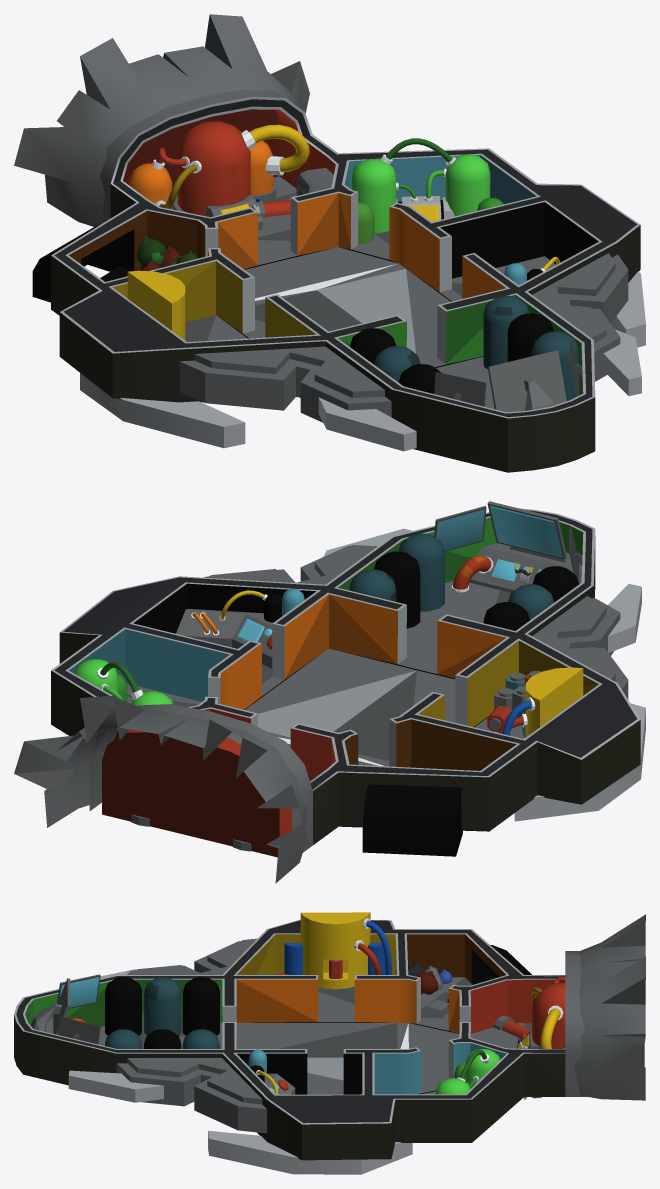
The model's file is Nave.glb.
The picture shows the model from 3 angles, top to bottom: view 1: azimuth 30°, elevation 25°; view 2: azimuth 150°, elevation 25°; view 3: azimuth 270°, elevation 25°; orthographic projection. The views are drawn at different scales.
Parts seen in each view (by area): view 1: Plane.054, Plane.030, Cube.052, Plane.031, Cube.044, Plane.048, Plane.049, BézierCurve.024, Cube.056, Plane.029, Cube.053, Cube.051 (+3 smaller); view 2: Plane.054, Plane.030, Cube.056, Plane.031, Cube.045, Cube.044, Plane.029, Plane.048, BézierCurve.013; view 3: Plane.054, Plane.030, Cube.044, Plane.029, Cube.052, Cube.042, Plane.031, Plane.049, BézierCurve.024, Cube.056, Cube.049, Plane.048 (+2 smaller).
Boxes of the visible parts, x1=… form: Plane.054: x1=14, y1=14, x2=645, y2=472; Plane.030: x1=350, y1=295, x2=578, y2=400; Cube.052: x1=172, y1=121, x2=255, y2=216; Plane.031: x1=487, y1=350, x2=566, y2=412; Cube.044: x1=127, y1=270, x2=185, y2=340; Plane.048: x1=445, y1=154, x2=490, y2=216; Plane.049: x1=351, y1=158, x2=396, y2=233; BézierCurve.024: x1=241, y1=124, x2=309, y2=175; Cube.056: x1=32, y1=225, x2=118, y2=302; Plane.029: x1=434, y1=339, x2=582, y2=406; Cube.053: x1=128, y1=163, x2=172, y2=209; Cube.051: x1=250, y1=140, x2=276, y2=202; Plane.054: x1=14, y1=508, x2=645, y2=883; Plane.030: x1=349, y1=533, x2=578, y2=630; Cube.056: x1=362, y1=784, x2=462, y2=856; Plane.031: x1=469, y1=501, x2=581, y2=592; Cube.045: x1=176, y1=609, x2=272, y2=668; Cube.044: x1=525, y1=667, x2=583, y2=737; Plane.029: x1=434, y1=506, x2=582, y2=584; Plane.048: x1=74, y1=659, x2=118, y2=693; BézierCurve.013: x1=451, y1=555, x2=493, y2=592; Plane.054: x1=14, y1=914, x2=645, y2=1174; Plane.030: x1=105, y1=977, x2=219, y2=1048; Cube.044: x1=300, y1=912, x2=370, y2=989; Plane.029: x1=57, y1=974, x2=100, y2=1044; Cube.052: x1=532, y1=982, x2=565, y2=1048; Cube.042: x1=284, y1=943, x2=385, y2=974; Plane.031: x1=30, y1=978, x2=70, y2=1034; Plane.049: x1=465, y1=1049, x2=500, y2=1088; BézierCurve.024: x1=540, y1=1005, x2=564, y2=1048; Cube.056: x1=482, y1=945, x2=531, y2=981; Cube.049: x1=408, y1=962, x2=452, y2=993; Plane.048: x1=435, y1=1078, x2=470, y2=1094.
Size of the model in its own units: 22.71 by 7 by 29.52.
Materials: 1 (1 with a texture image).
